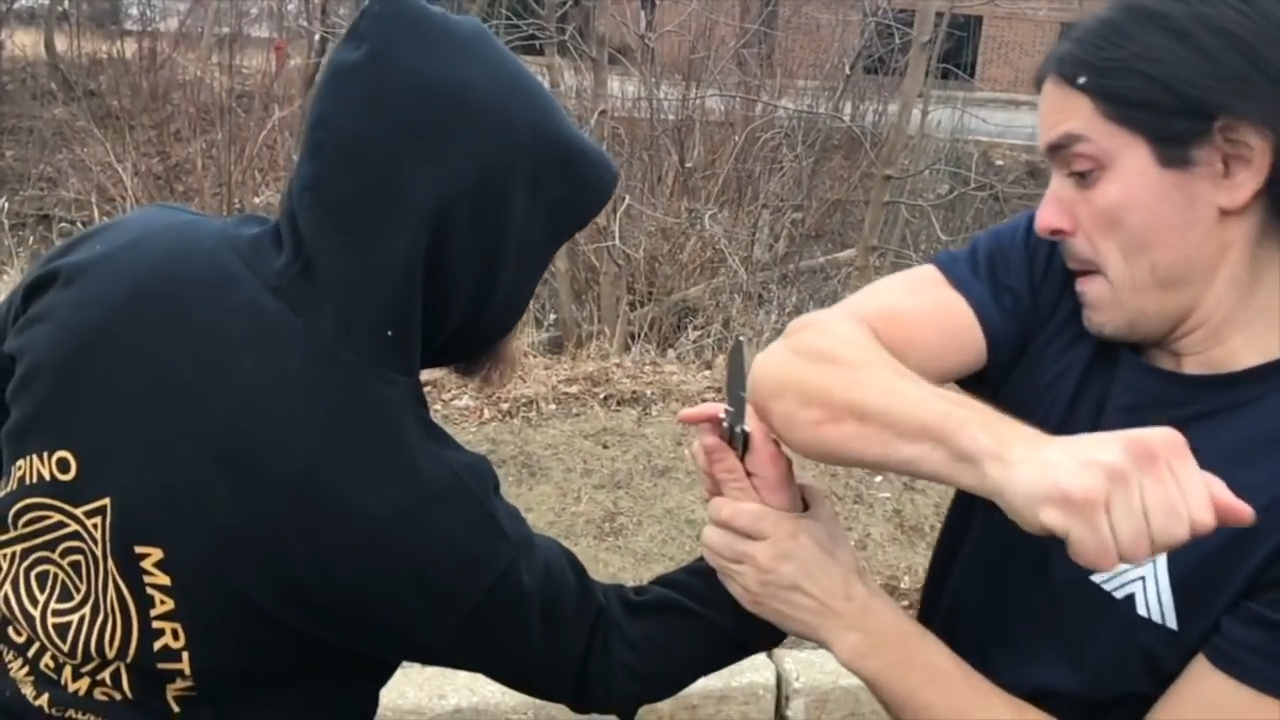knife: (669, 318, 767, 494)
